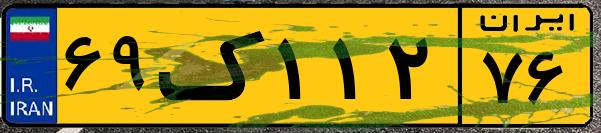1: (270, 28, 330, 110), (330, 28, 385, 110)
2: (385, 28, 445, 110)
6: (57, 26, 110, 100), (525, 38, 570, 115)
7: (475, 38, 525, 113)
9: (110, 28, 158, 98)
ک: (158, 12, 270, 120)
